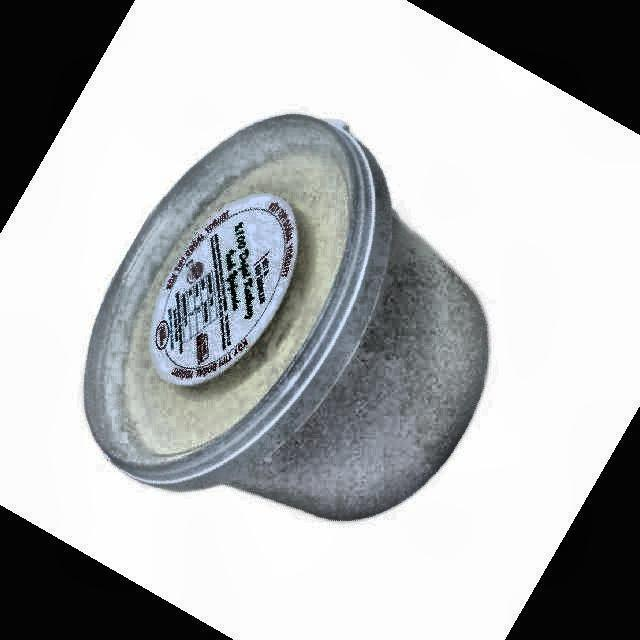plastic: (85, 115, 489, 519)
